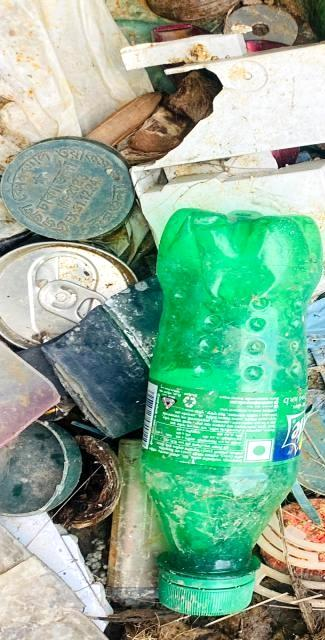bottle: (141, 211, 316, 624)
